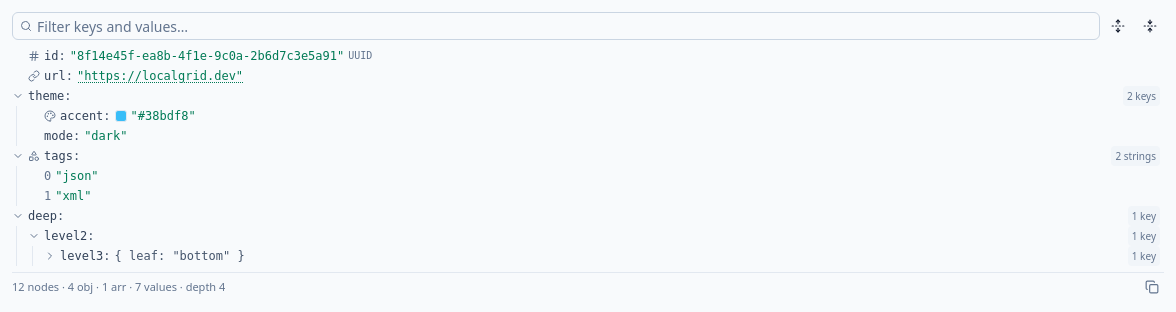
Test: DataTree › summarizes the whole document while nothing is selected, then the selected node
The width and height of the screenshot is (1176, 312).
Check: the text "12 nodes · 4 obj · 1 arr · 7 values · depth 4" is shown, box [12, 279, 225, 295]
Click the text "theme" at (50, 96), box [28, 86, 71, 106]
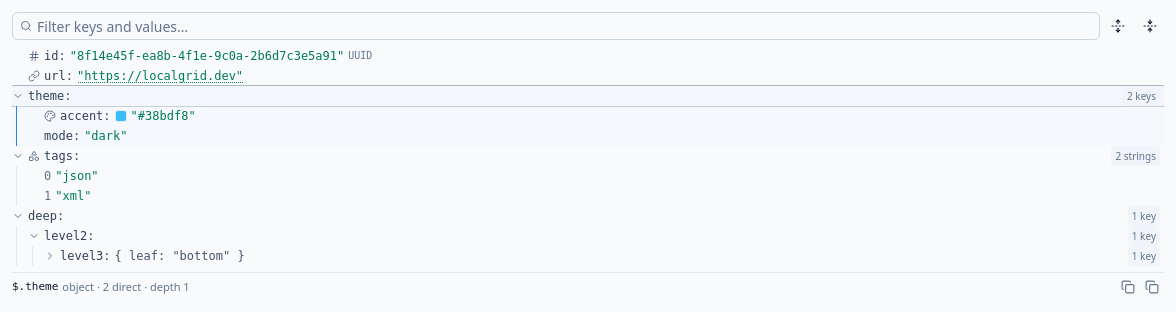
Check: the text "$.theme" is shown, box [12, 279, 58, 295]
Check: the text "object · 2 direct · depth 1" is shown, box [62, 279, 190, 295]
